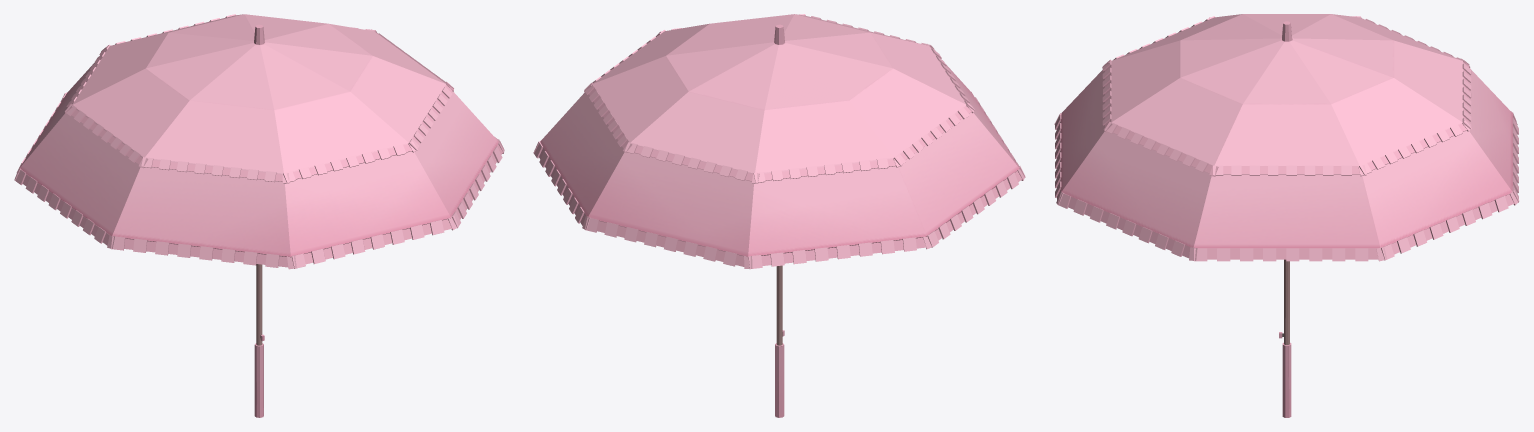
The model's file is qinglan_umbrella.obj.
3 renders of one model, left to right at view 1: azimuth 30°, elevation 25°; view 2: azimuth 150°, elevation 25°; view 3: azimuth 270°, elevation 25°, orthographic.
Parts seen in each view (by area): view 1: cylinder_selection_selection; view 2: cylinder_selection_selection; view 3: cylinder_selection_selection.
Part boxes in pixels (<box>): cylinder_selection_selection: <box>14,14,504,417</box>; cylinder_selection_selection: <box>533,14,1025,417</box>; cylinder_selection_selection: <box>1054,14,1519,417</box>.
Bounding box in the file's own units: 0.8842 × 0.8242 × 0.8842.
